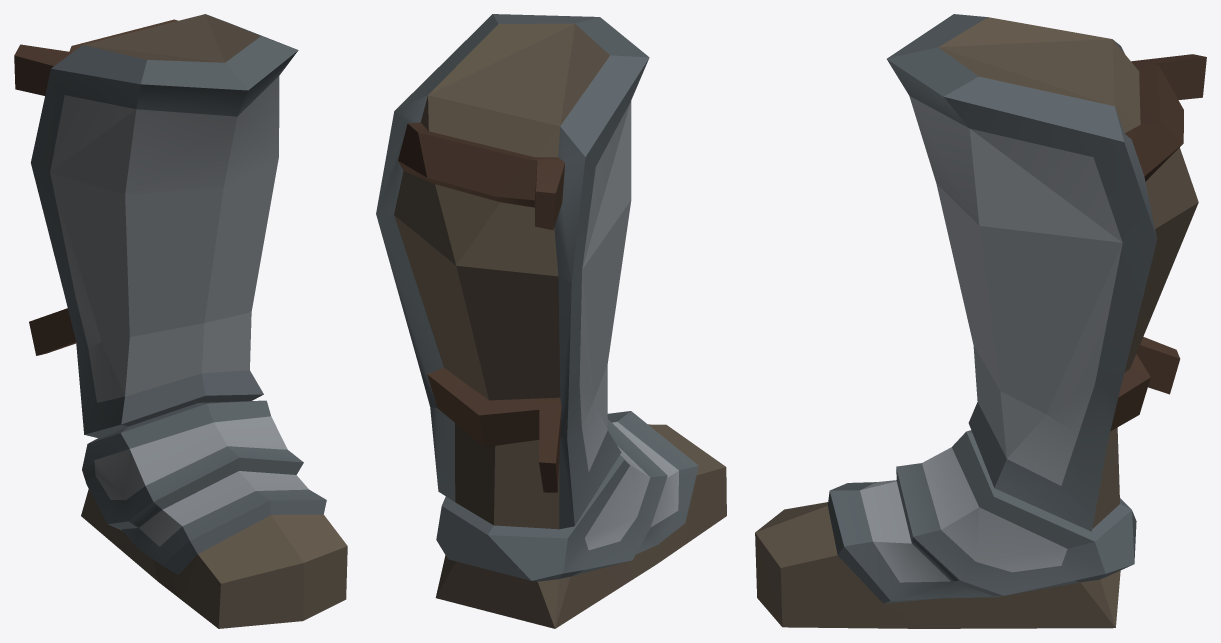
The model's file is Chr_LegLeft_Male_16_Static.fbx.
3 renders of one model, left to right at view 1: azimuth 30°, elevation 25°; view 2: azimuth 150°, elevation 25°; view 3: azimuth 270°, elevation 25°, orthographic. The views are drawn at different scales.
Visible parts, largest first — view 1: Chr_LegLeft_Male_16_Static; view 2: Chr_LegLeft_Male_16_Static; view 3: Chr_LegLeft_Male_16_Static.
Part boxes in pixels (bbox=[...]): Chr_LegLeft_Male_16_Static: bbox=[14, 14, 347, 628]; Chr_LegLeft_Male_16_Static: bbox=[376, 14, 726, 628]; Chr_LegLeft_Male_16_Static: bbox=[755, 14, 1206, 628].
Size of the model in its own units: 0.1582 by 0.404 by 0.2994.
